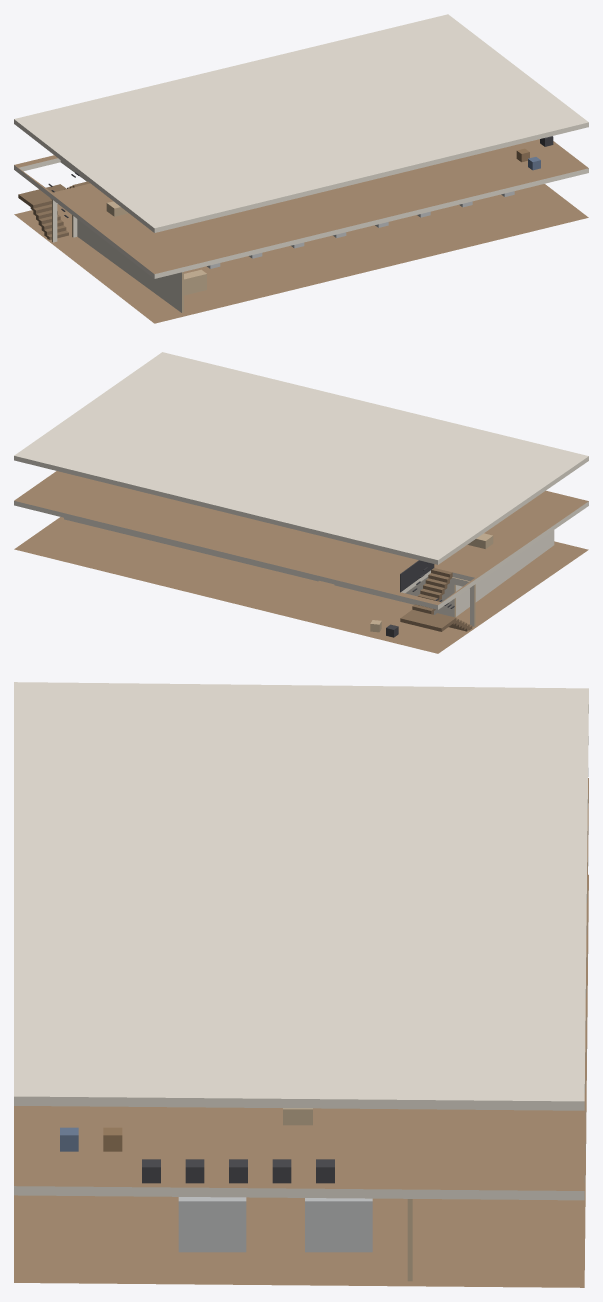
The model's file is interior.glb.
3 renders of one model, top to bottom at view 1: azimuth 30°, elevation 25°; view 2: azimuth 150°, elevation 25°; view 3: azimuth 270°, elevation 25°, orthographic. The views are drawn at different scales.
Parts seen in each view (by area): view 1: slabs, partitions, stair, coarse-s0, coarse-s1; view 2: slabs, partitions, stair; view 3: slabs, coarse-s0, coarse-s1.
Part boxes in pixels (left/top/right/bottom): slabs: left=14, top=14, right=588, bottom=323; partitions: left=52, top=199, right=183, bottom=312; stair: left=18, top=172, right=89, bottom=239; coarse-s0: left=184, top=191, right=514, bottom=295; coarse-s1: left=106, top=136, right=553, bottom=216; slabs: left=14, top=352, right=588, bottom=653; partitions: left=64, top=518, right=554, bottom=626; stair: left=400, top=560, right=472, bottom=631; slabs: left=14, top=682, right=588, bottom=1287; coarse-s0: left=178, top=1197, right=372, bottom=1252; coarse-s1: left=60, top=1108, right=334, bottom=1183.
Size of the model in its own units: 25.08 by 5.22 by 14.54.
